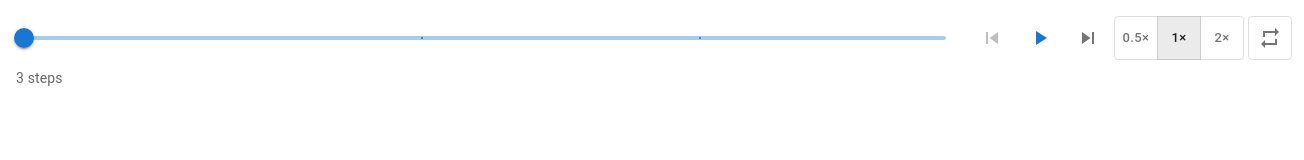
Test case: PlaybackBoard › scales the clock with the speed
Click the button named "2× speed" at x=1222, y=38, box [1200,16,1244,60]
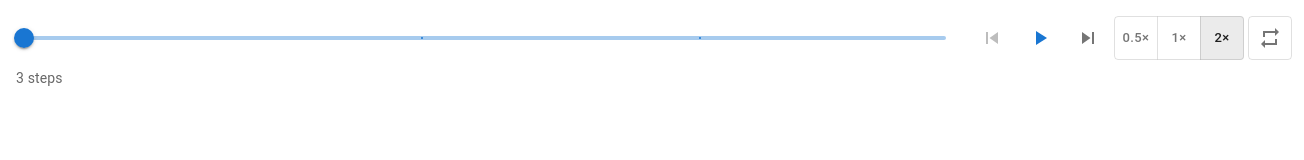
Expected: the button named "2× speed" is pressed, [1200,16,1244,60]
Click the button named "Play" at x=1040, y=38, box [1018,16,1062,60]
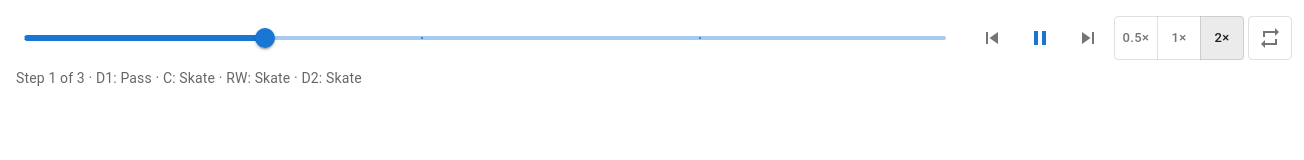
Expected: the slider named "Playback position" holds "1000", [255,28,275,48]
